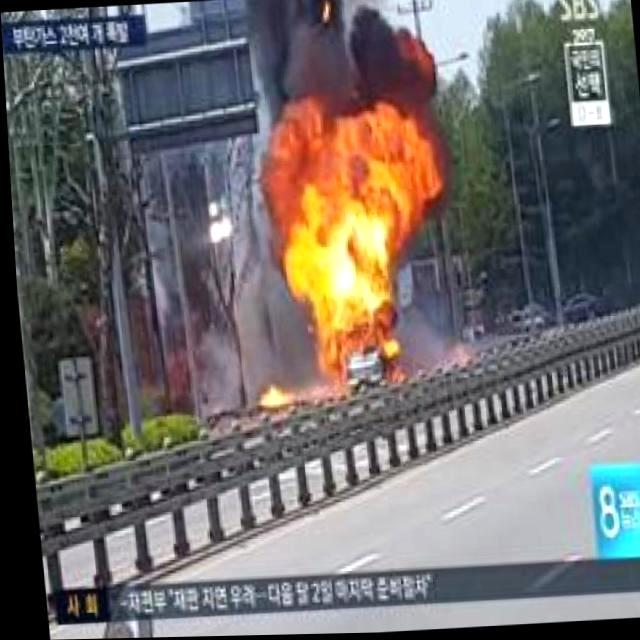fire: (270, 125, 400, 387), (246, 382, 282, 416)
